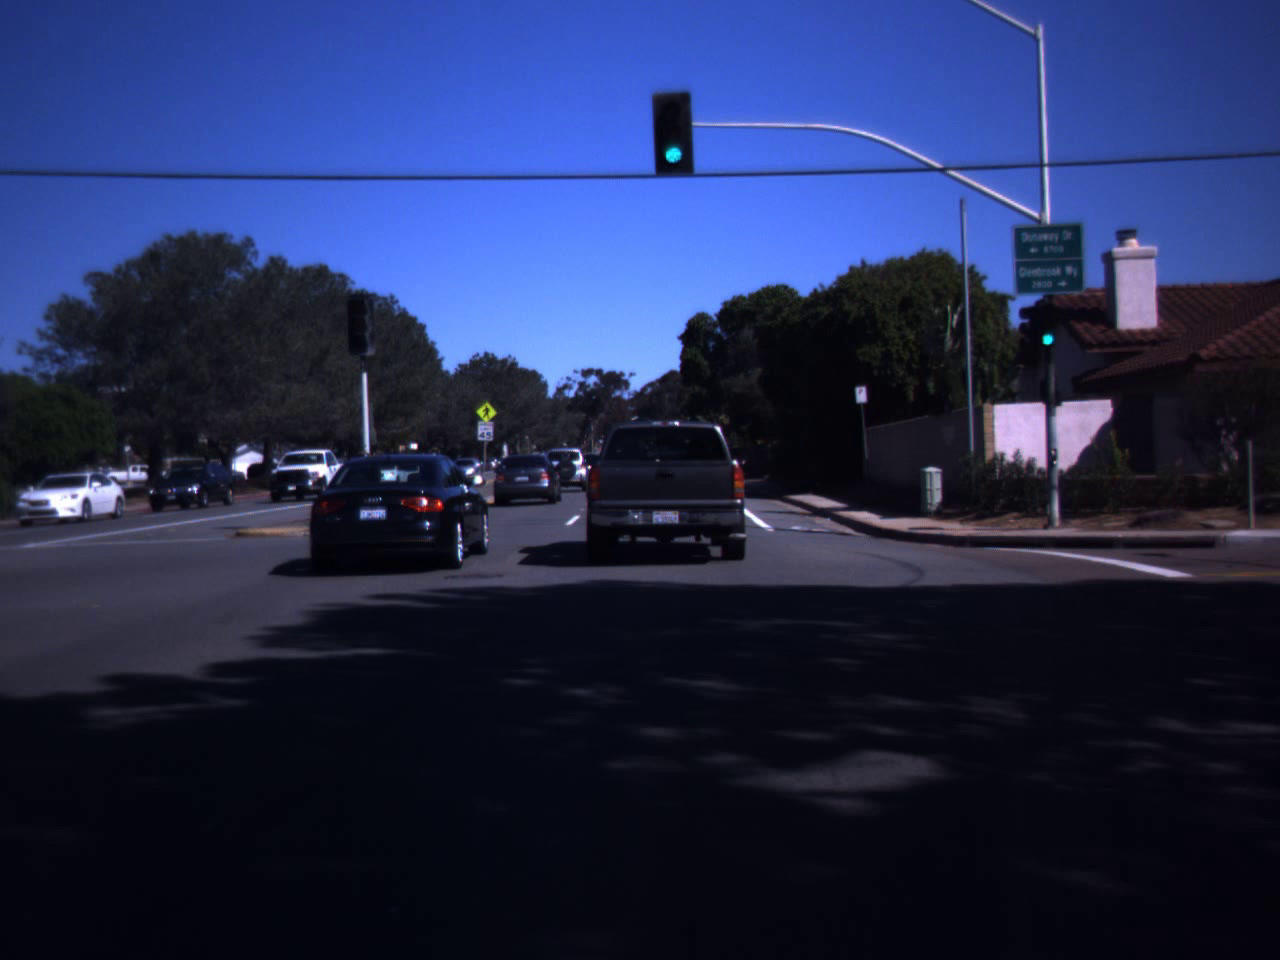go: (654, 102, 696, 167), (1041, 308, 1065, 348)
